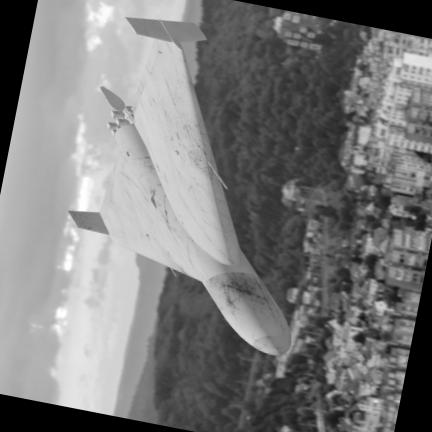Shahed: (69, 18, 291, 355)
